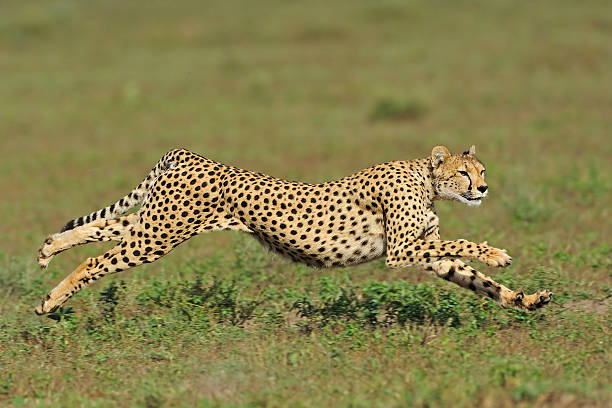cheetah: (412, 133, 499, 218)
